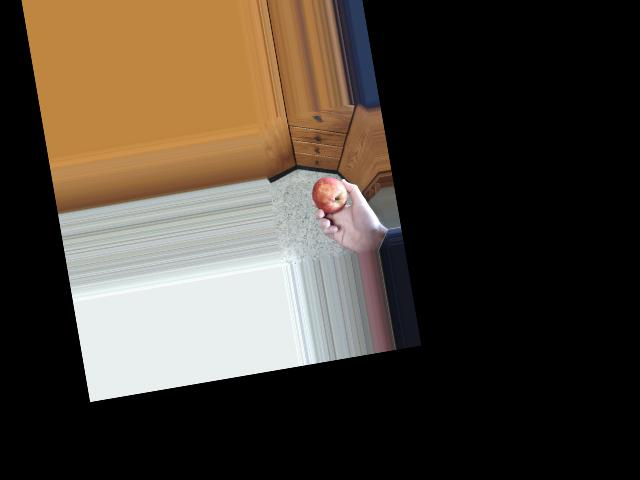apple: (309, 171, 358, 226)
